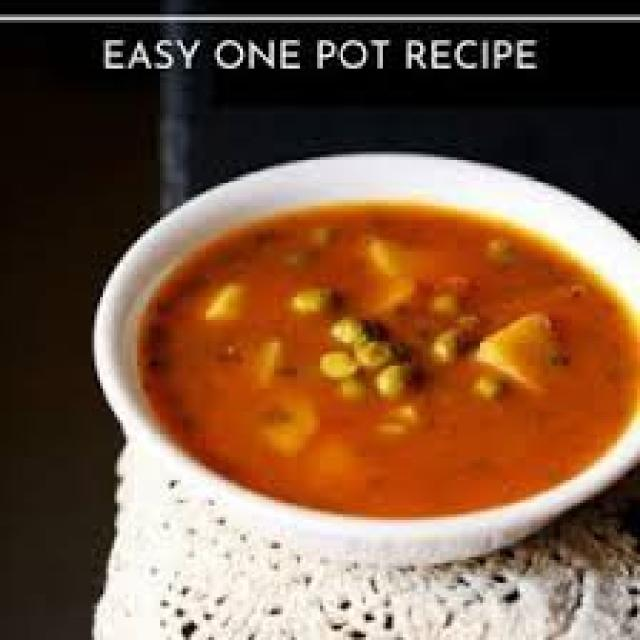aloo_matar: (130, 185, 622, 504)
